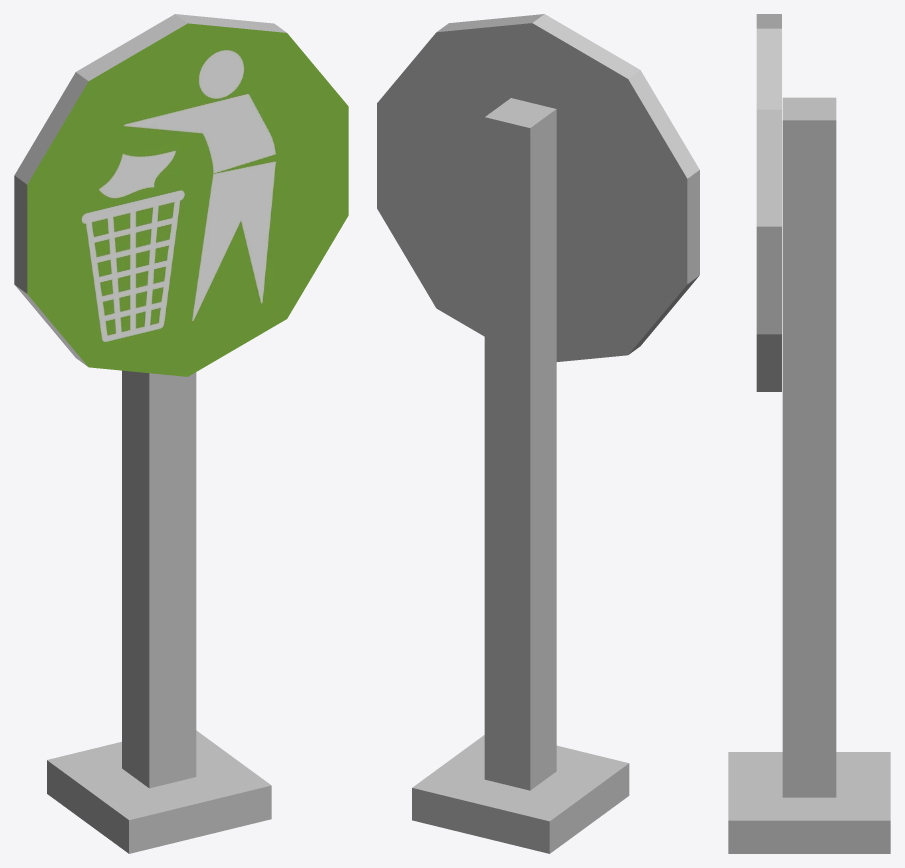
File: Sign 2.fbx
3 views of the same model, side by side, from view 1: azimuth 30°, elevation 25°; view 2: azimuth 150°, elevation 25°; view 3: azimuth 270°, elevation 25° (orthographic). The views are drawn at different scales.
Visible parts, largest first — view 1: Prop_Speed10_Sign; view 2: Prop_Speed10_Sign; view 3: Prop_Speed10_Sign.
Boxes of the visible parts, left/top/right/bottom form: Prop_Speed10_Sign: left=14, top=14, right=348, bottom=853; Prop_Speed10_Sign: left=377, top=14, right=699, bottom=853; Prop_Speed10_Sign: left=728, top=14, right=890, bottom=853.
Bounding box in the file's own units: 1.32 × 3.15 × 0.5853.
